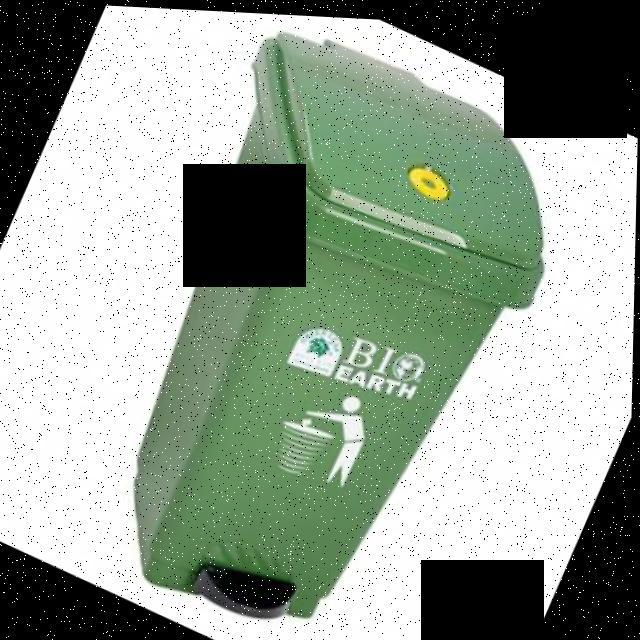bin: (33, 2, 619, 640)
